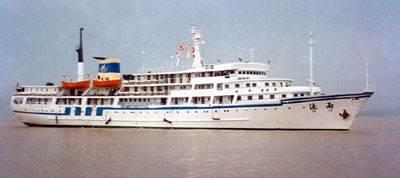youlun: (11, 36, 374, 127)
